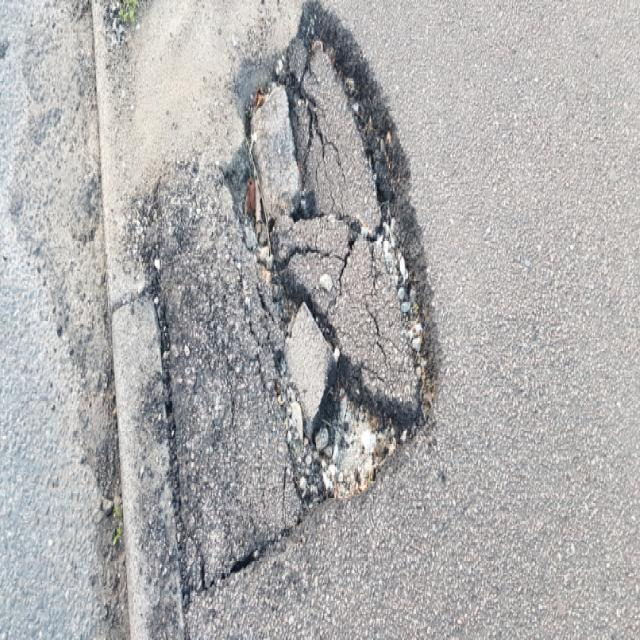pothole: (141, 0, 447, 598)
